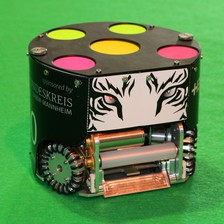robot: (22, 17, 205, 202)
